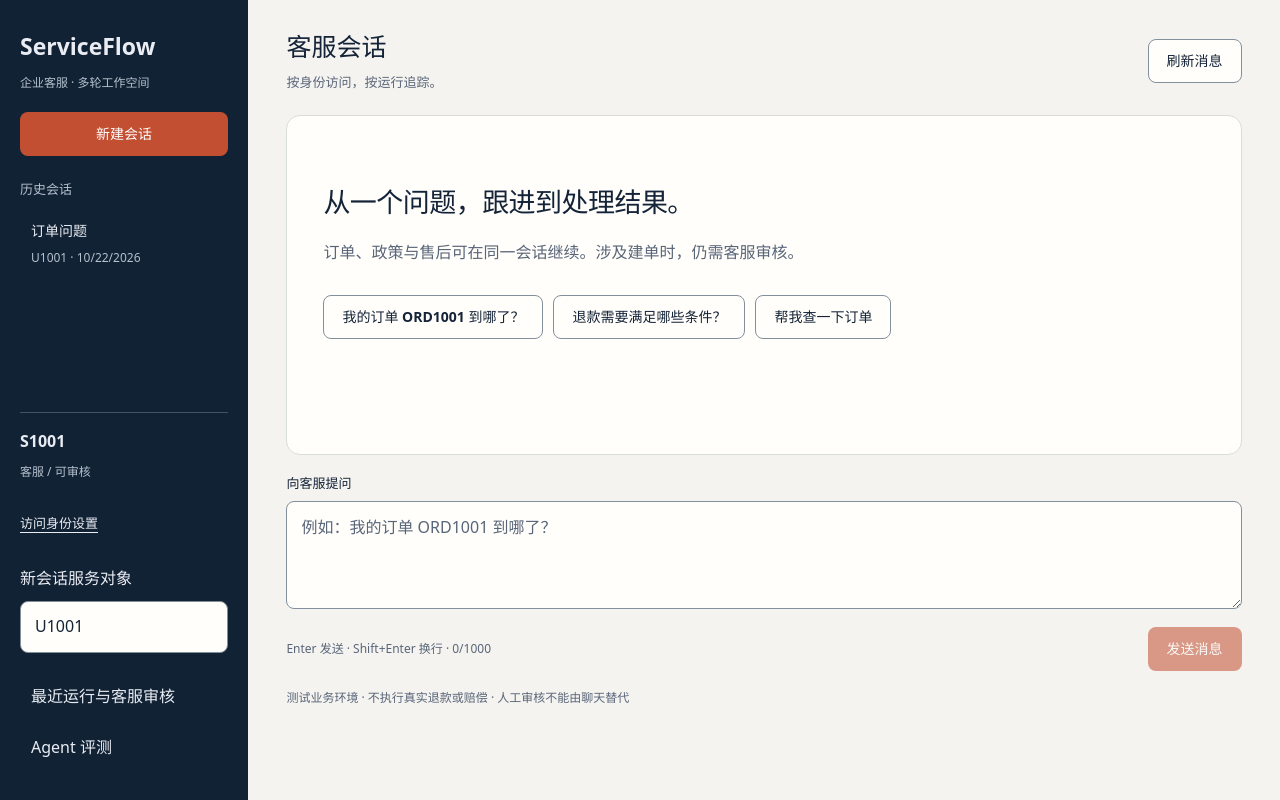
reviewer evaluation page shows an honest empty state without invented metrics
Click the button "Agent 评测".
click(124, 748)  # box [20,724,228,772]
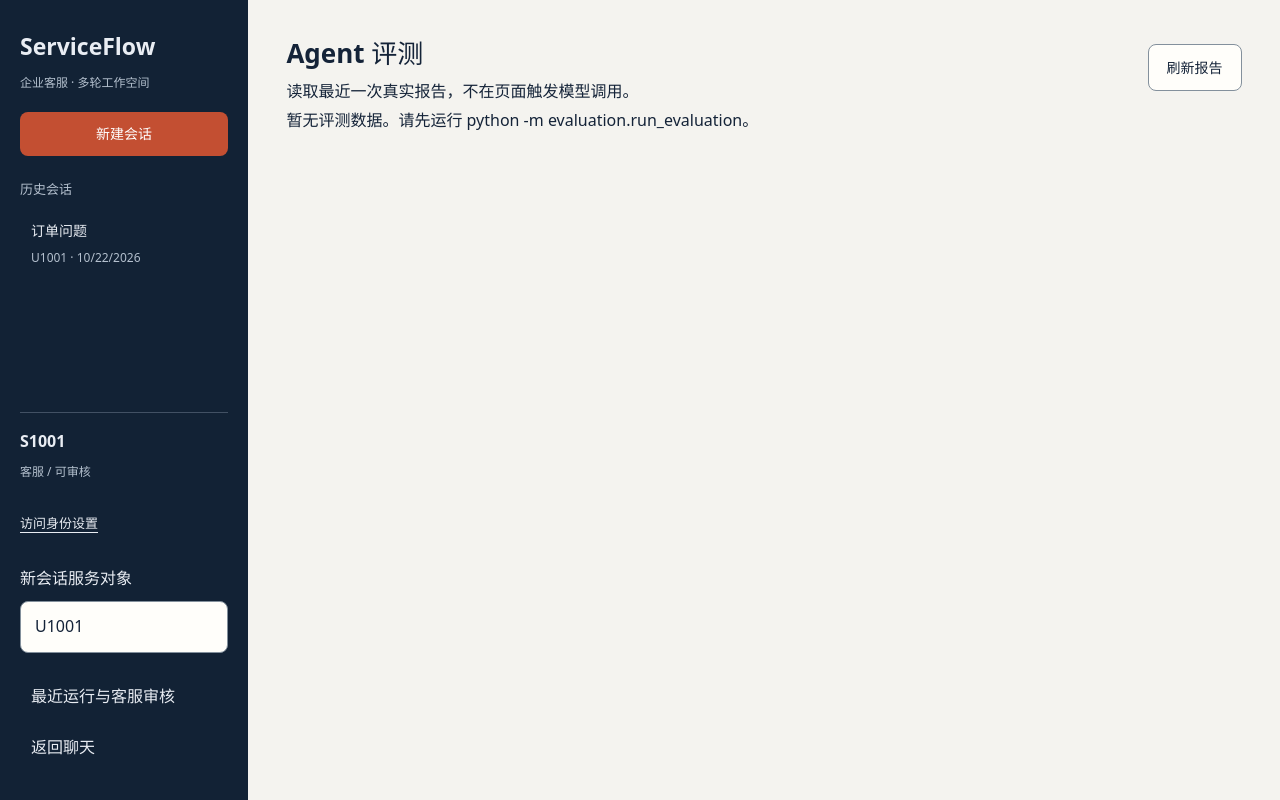
Check: the text "暂无评测数据" is shown, box [286,109,758,131]
